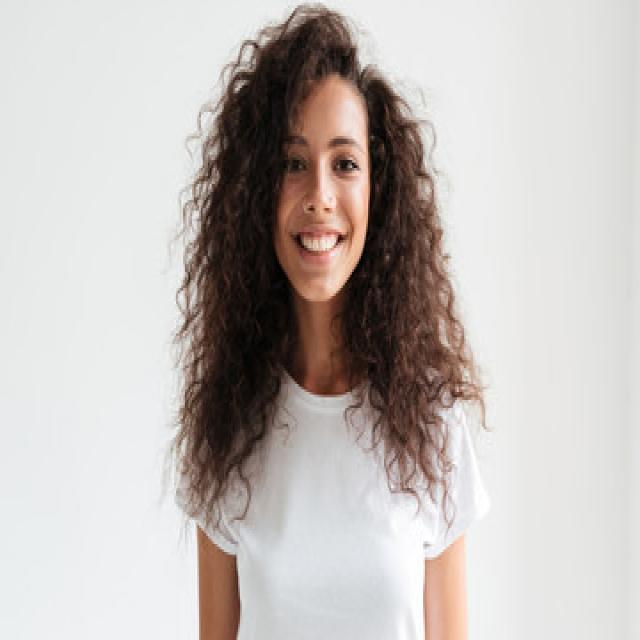Nonhelmet: (228, 15, 412, 309)
